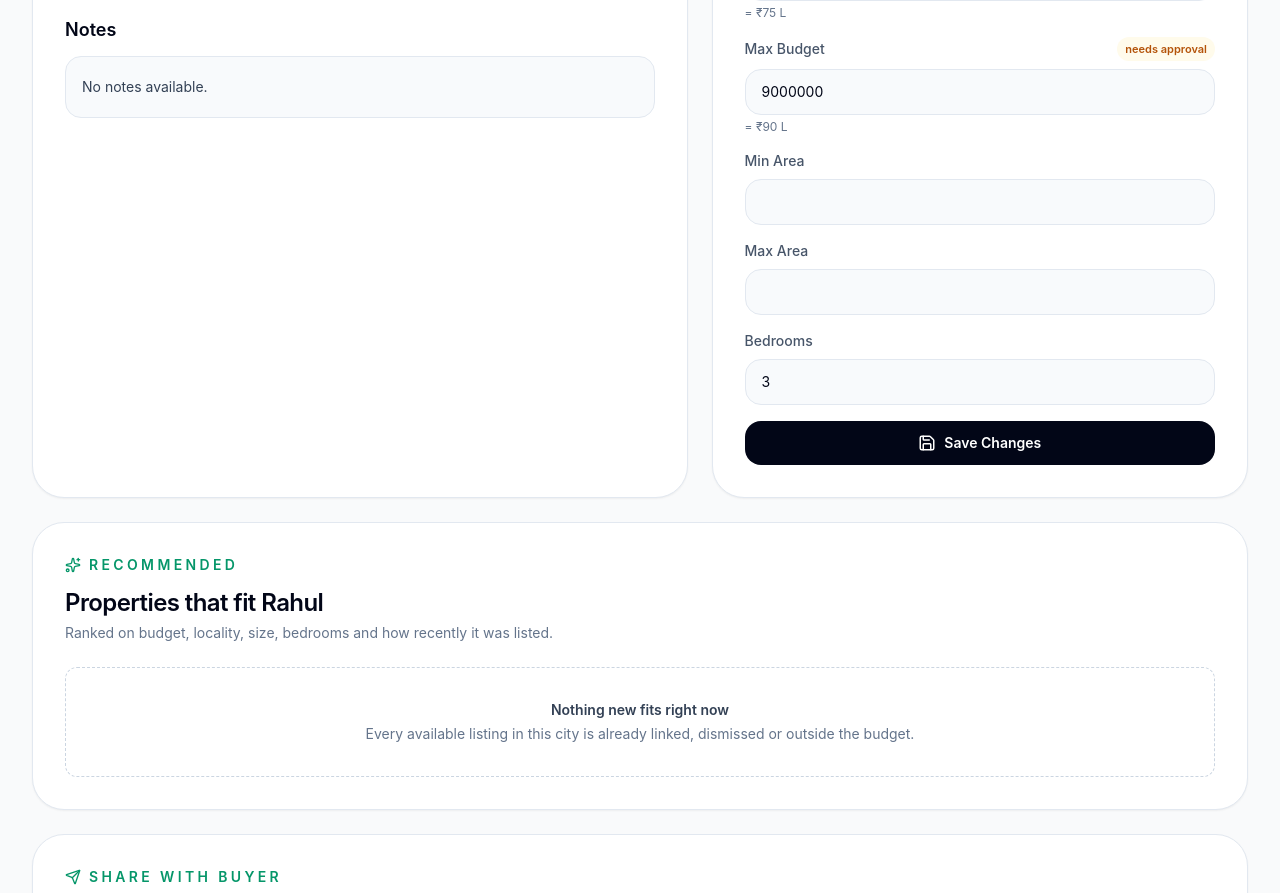
client edit form › saving without changes sends nothing
(page scrolled)
Step 1. Click the button "Save Changes" → coordinates (980, 443), box [745, 421, 1215, 465]
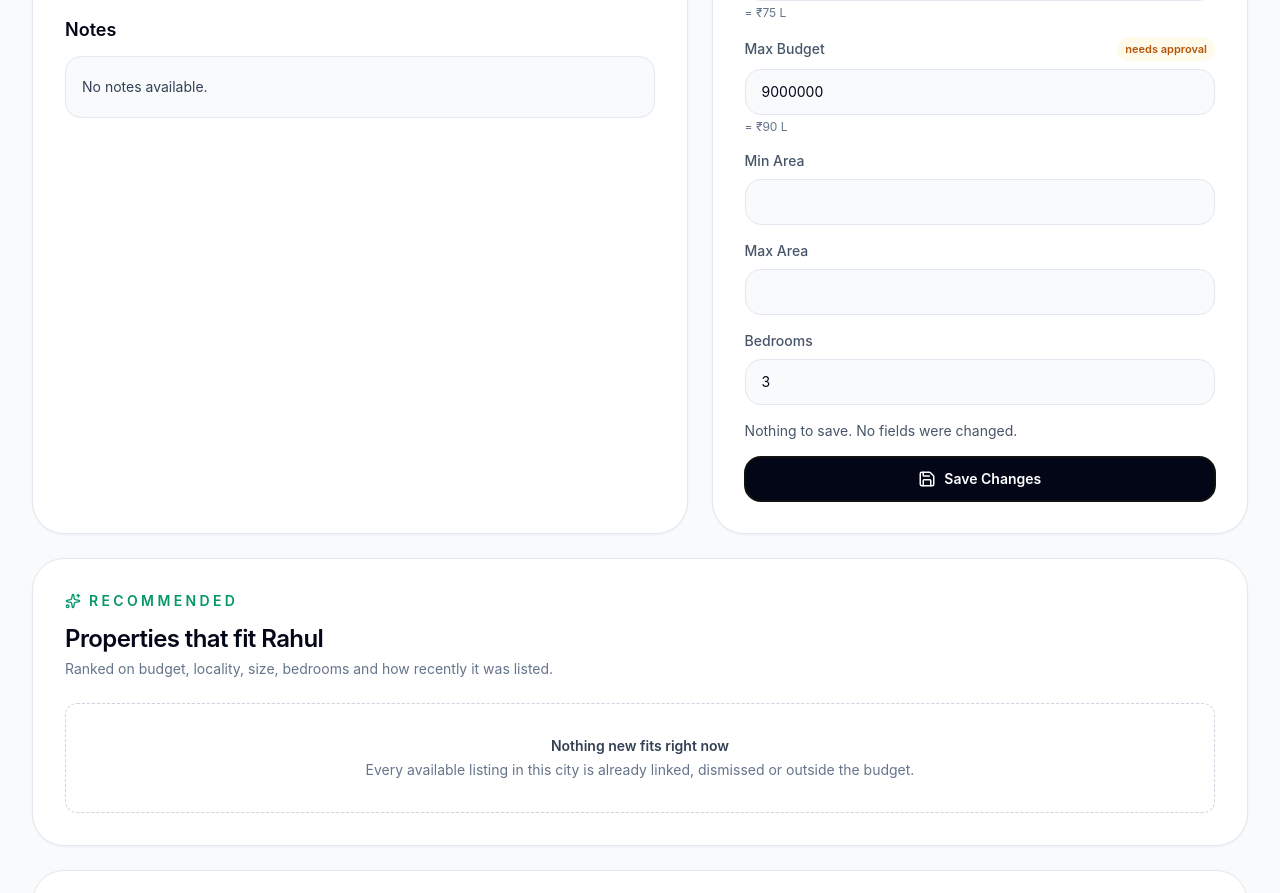
Result: the text "Nothing to save. No fields were changed." is shown at [745, 422, 1017, 439]
